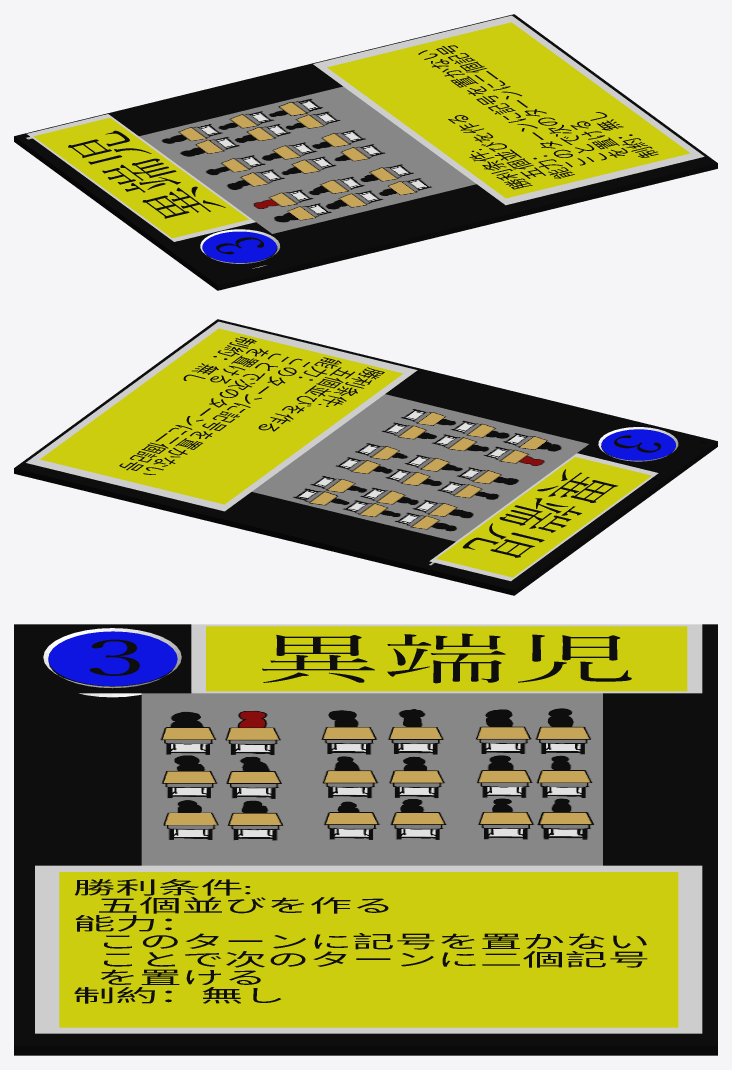
File: 異端児黒.fbx
3 renders of one model, top to bottom at view 1: azimuth 30°, elevation 25°; view 2: azimuth 150°, elevation 25°; view 3: azimuth 270°, elevation 25°, orthographic. The views are drawn at different scales.
Visible parts, largest first — view 1: 説明欄, 平面.001, カード本体.001, 名前欄, 説明文, 名前, 円, 平面; view 2: 説明欄, 平面.001, カード本体.001, 名前欄, 説明文, 名前, 円, 平面; view 3: 説明欄, 平面.001, カード本体.001, 名前欄, 説明文, 名前, 円, 平面, コスト蘭.
Part boxes in pixels (bbox=[...]): 説明欄: bbox=[313, 15, 704, 205]; 平面.001: bbox=[139, 86, 476, 233]; カード本体.001: bbox=[14, 14, 717, 290]; 名前欄: bbox=[27, 114, 255, 241]; 説明文: bbox=[418, 45, 658, 189]; 名前: bbox=[68, 130, 225, 218]; 円: bbox=[202, 231, 276, 262]; 平面: bbox=[174, 222, 302, 275]; 説明欄: bbox=[26, 321, 417, 511]; 平面.001: bbox=[252, 394, 588, 541]; カード本体.001: bbox=[14, 319, 717, 595]; 名前欄: bbox=[429, 453, 658, 581]; 説明文: bbox=[119, 337, 384, 474]; 名前: bbox=[462, 469, 618, 557]; 円: bbox=[601, 429, 675, 460]; 平面: bbox=[577, 419, 704, 472]; 説明欄: bbox=[35, 865, 702, 1033]; 平面.001: bbox=[141, 693, 602, 865]; カード本体.001: bbox=[14, 624, 717, 1055]; 名前欄: bbox=[191, 624, 702, 693]; 説明文: bbox=[74, 879, 647, 1003]; 名前: bbox=[262, 633, 631, 683]; 円: bbox=[48, 631, 177, 686]; 平面: bbox=[30, 624, 191, 693]; コスト蘭: bbox=[43, 628, 181, 697].
Size of the model in its own units: 281 by 6.07 by 198.
